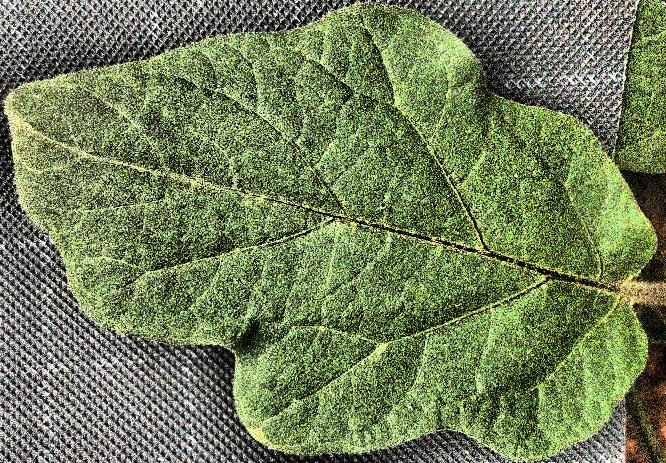HEALTHY: (1, 1, 666, 463)
